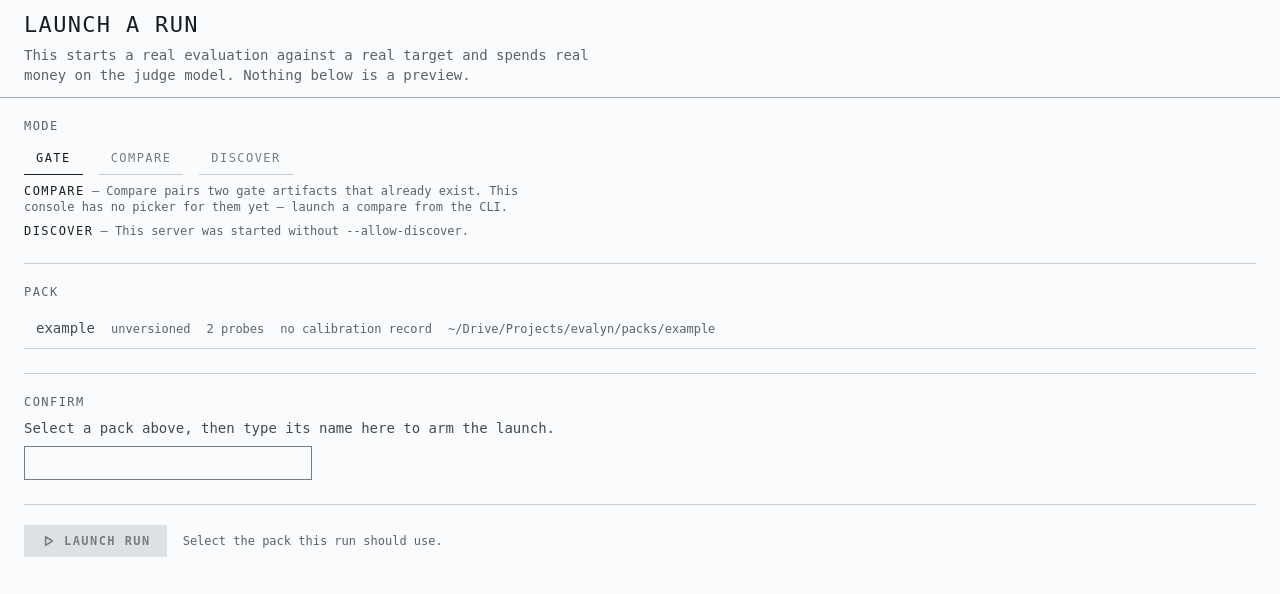
Test: the launch console › refuses to arm until the pack's name is typed exactly
This screenshot has width=1280, height=594.
Click the button with test id "pack-key".
click(640, 328)  # box [24,308,1256,349]
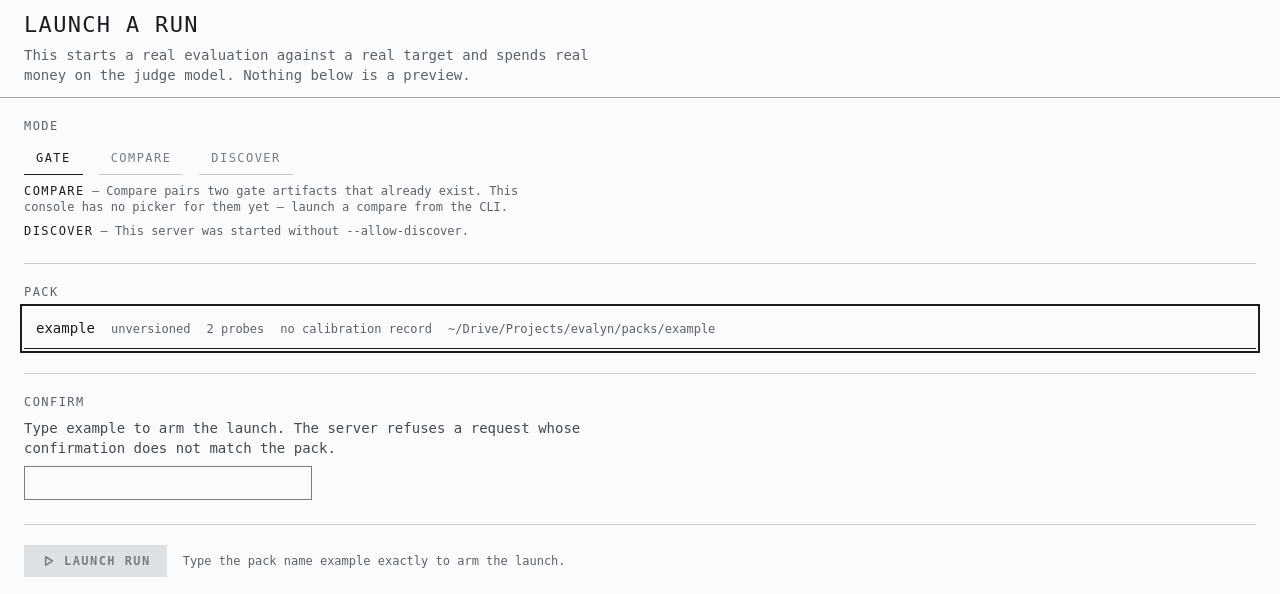
Expected: the button with test id "safety-key" is disabled, [24,545,167,577]
Now the text with test id "launch-refusal" shows "example", box [183,554,566,568]
Type "exampl" into the field labelled "Type example".
click(168, 483); type("exampl")  # box [24,466,312,500]
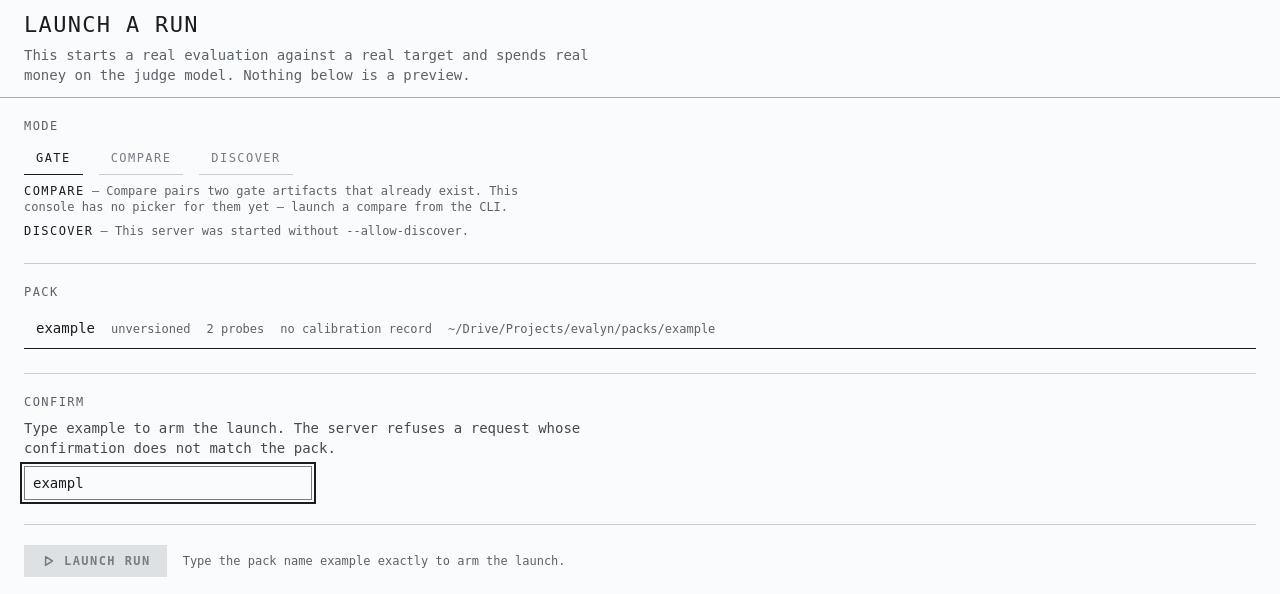
Expected: the button with test id "safety-key" is disabled, [24,545,167,577]
Type "e" into the field labelled "Type example".
click(168, 483); type("e")  # box [24,466,312,500]
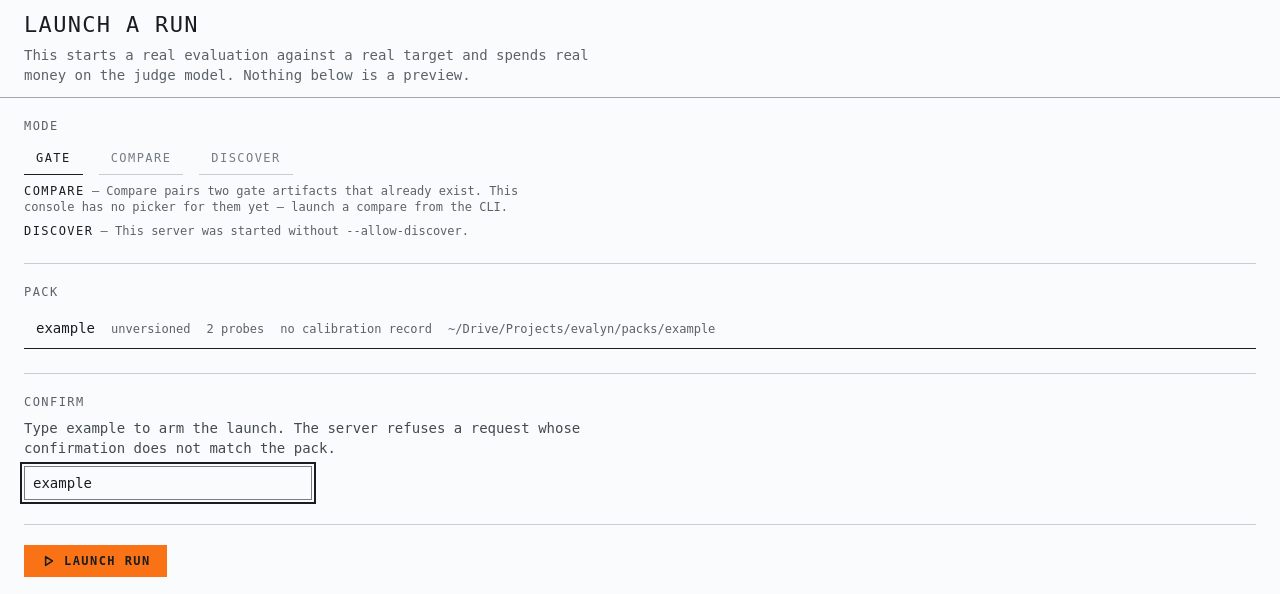
Now the button with test id "safety-key" is enabled, box [24,545,167,577]
Now the text with test id "launch-refusal" is gone
